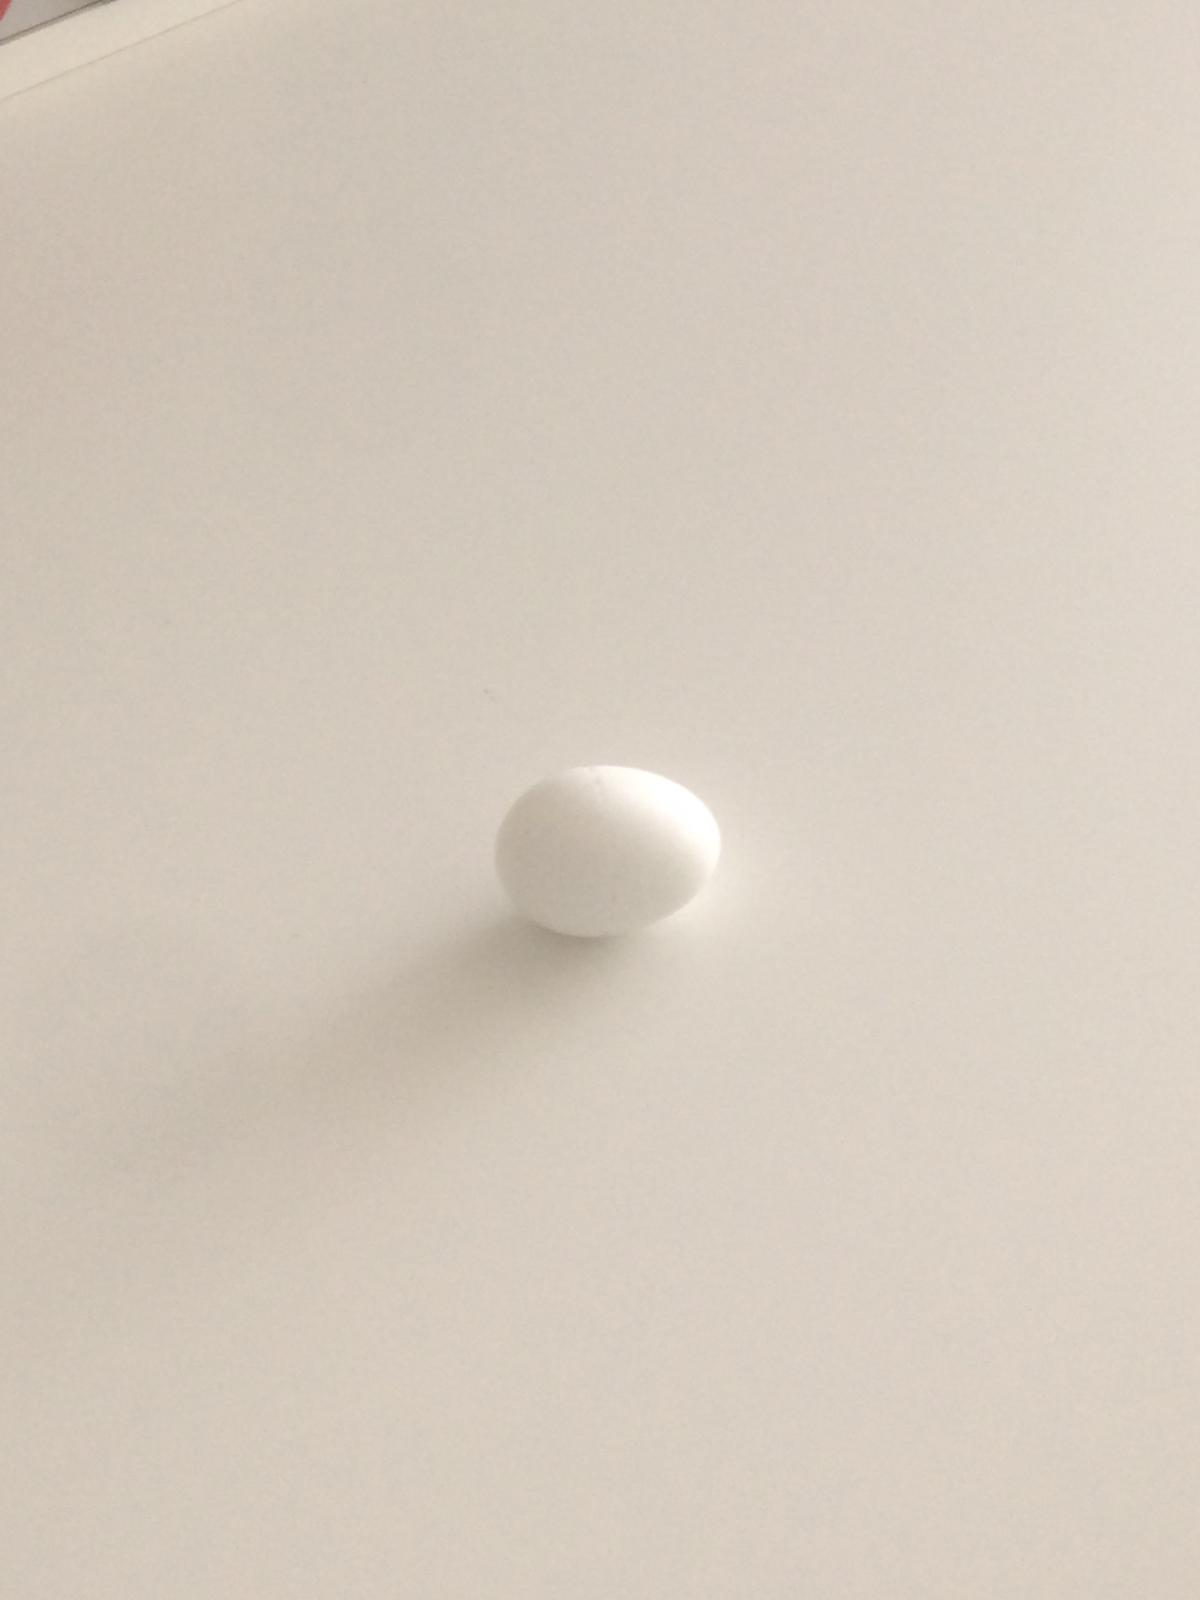egg: (483, 758, 736, 950)
